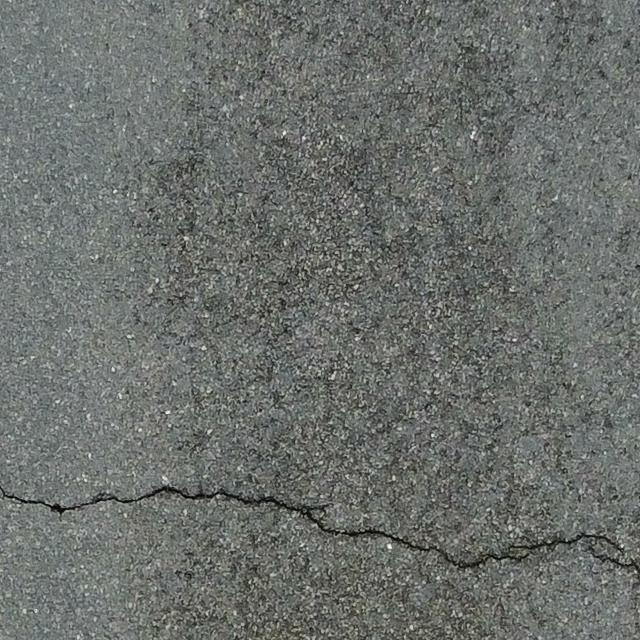TransverseCrack: (1, 488, 640, 575)
